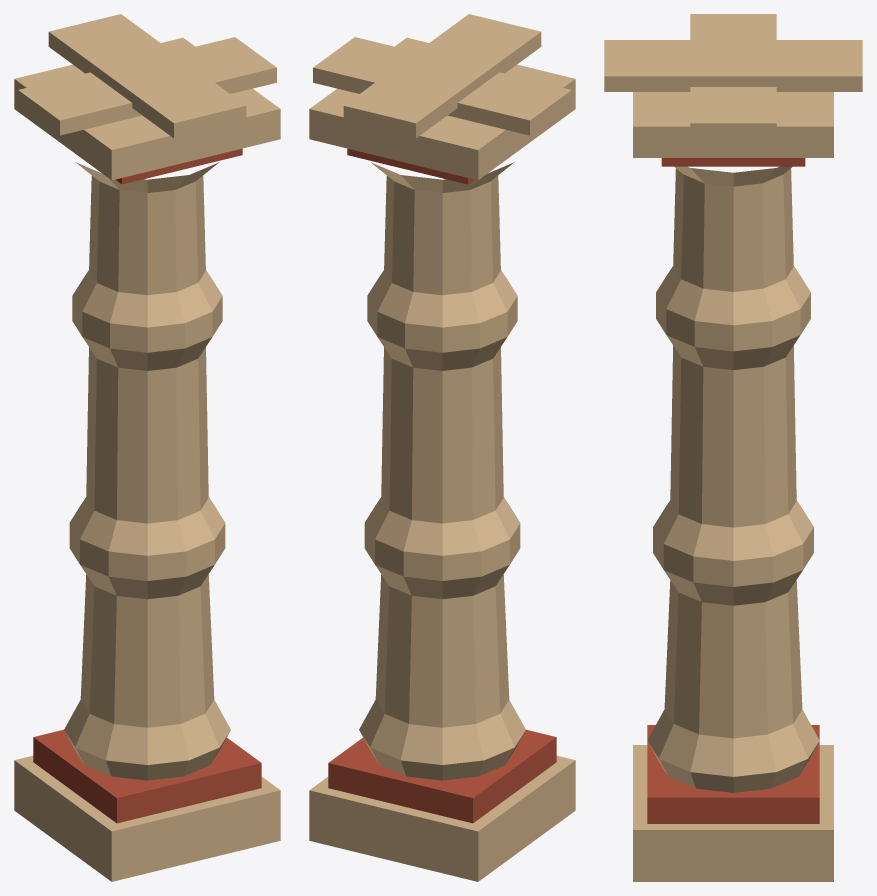
Rendered from mbs.carved-pillar.glb.
3 renders of one model, left to right at view 1: azimuth 30°, elevation 25°; view 2: azimuth 150°, elevation 25°; view 3: azimuth 270°, elevation 25°, orthographic. The views are drawn at different scales.
Visible parts, largest first — view 1: Carved Pillar; view 2: Carved Pillar; view 3: Carved Pillar.
Part boxes in pixels (x1,y1,x2,y2): Carved Pillar: (14, 14, 280, 881); Carved Pillar: (309, 14, 575, 881); Carved Pillar: (604, 14, 862, 881).
Size of the model in its own units: 0.9 by 3 by 0.9.
